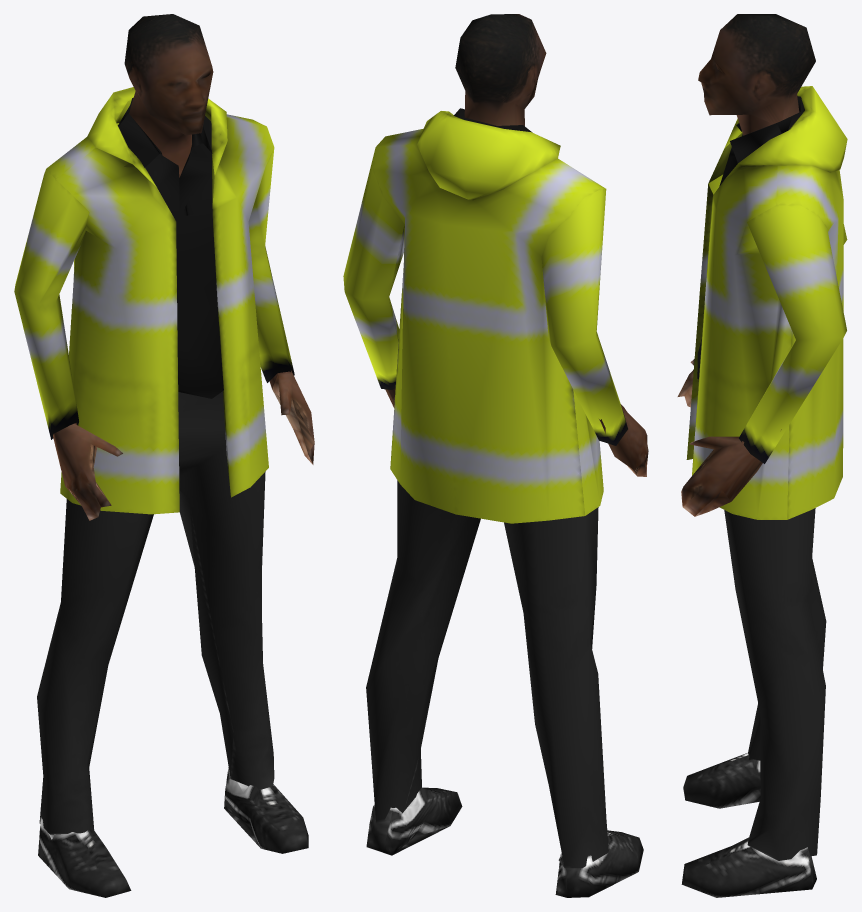
File: LOW_Marshall02_TB.fbx
3 views of the same model, side by side, from view 1: azimuth 30°, elevation 25°; view 2: azimuth 150°, elevation 25°; view 3: azimuth 270°, elevation 25° (orthographic).
Parts seen in each view (by area): view 1: LOW_Marshall02_TB; view 2: LOW_Marshall02_TB; view 3: LOW_Marshall02_TB.
Boxes of the visible parts, <box> form: LOW_Marshall02_TB: <box>14,14,314,897</box>; LOW_Marshall02_TB: <box>343,14,648,897</box>; LOW_Marshall02_TB: <box>677,14,847,897</box>.
Size of the model in its own units: 55.86 by 179 by 33.37.
